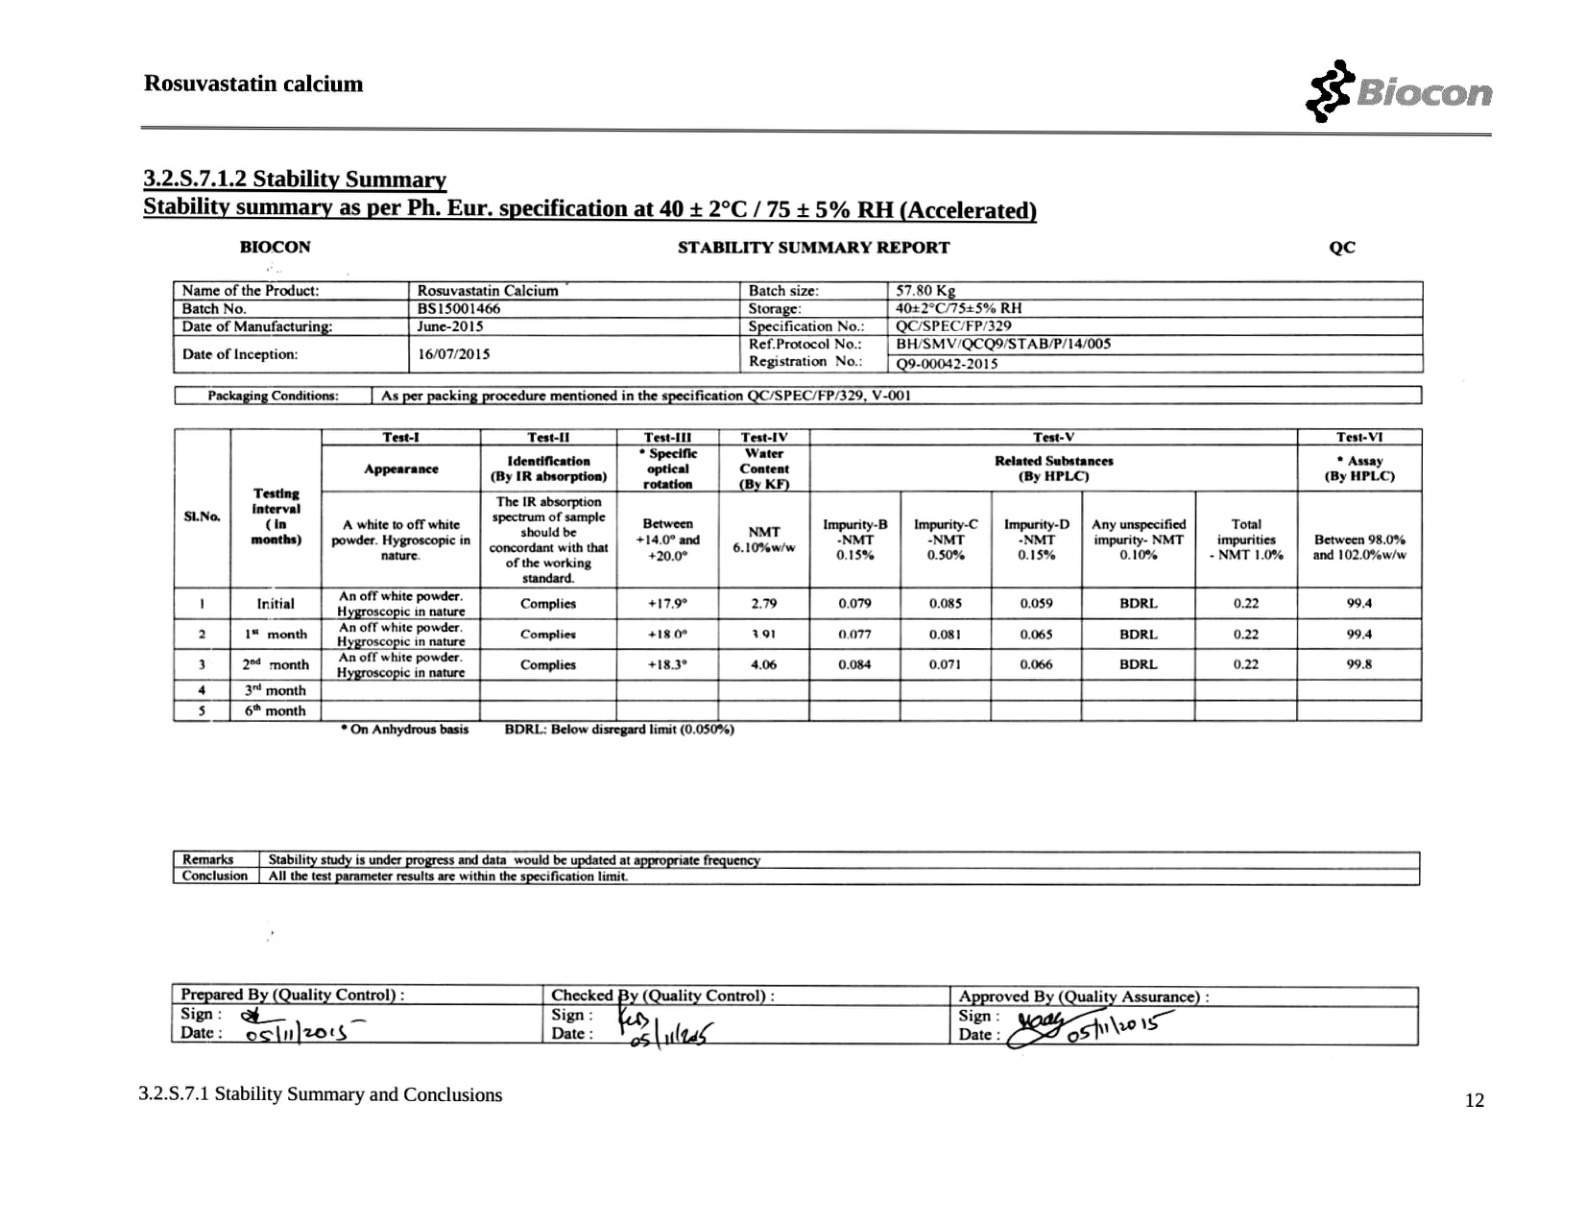full_lined: (175, 985, 1420, 1041), (171, 849, 1420, 887), (174, 384, 1423, 405)
merged_cells: (172, 426, 1421, 723), (171, 279, 1424, 372)
